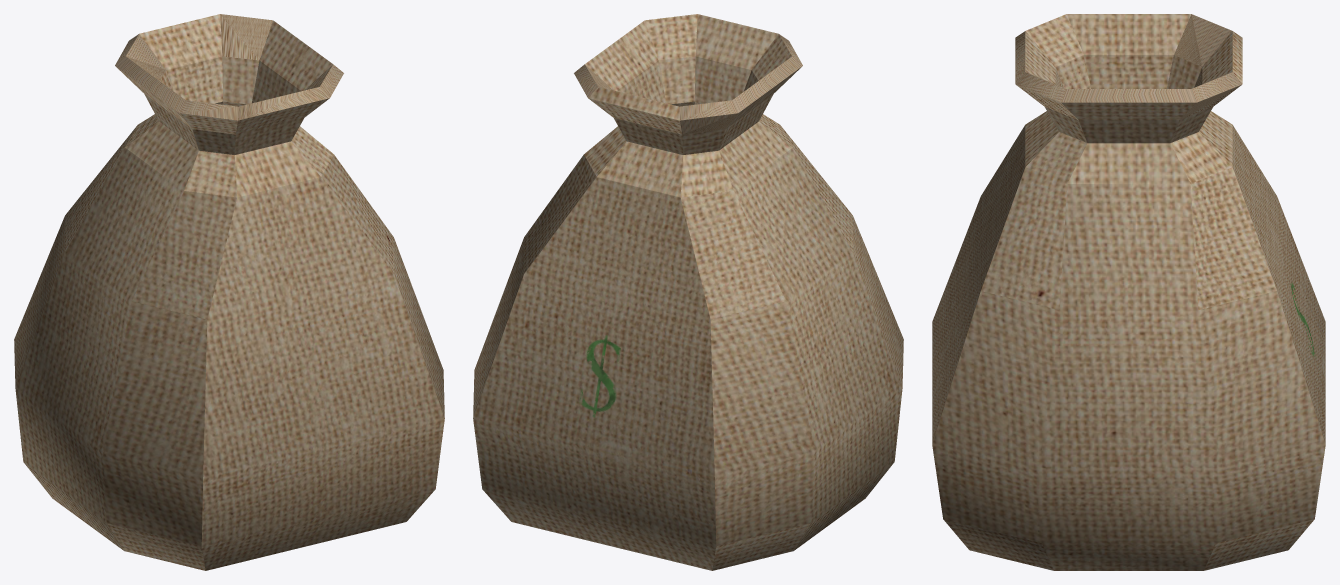
File: MoneyBag.FBX
3 views of the same model, side by side, from view 1: azimuth 30°, elevation 25°; view 2: azimuth 150°, elevation 25°; view 3: azimuth 270°, elevation 25° (orthographic). The views are drawn at different scales.
Parts seen in each view (by area): view 1: Box001; view 2: Box001; view 3: Box001.
Part boxes in pixels (x1,y1,x2,y2): Box001: (14,14,444,570); Box001: (473,14,903,570); Box001: (932,14,1325,570).
Size of the model in its own units: 137 by 165 by 132.
